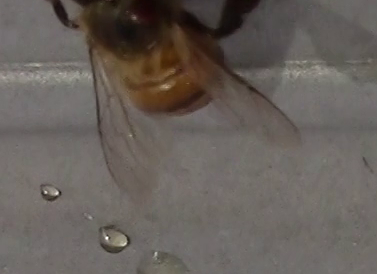Varroa destructor: (121, 1, 160, 25)
